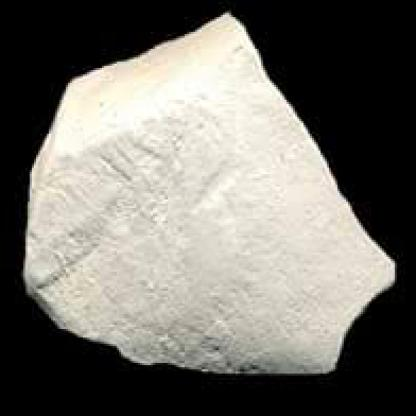Sedimentary_Chalk: (11, 6, 397, 378)
